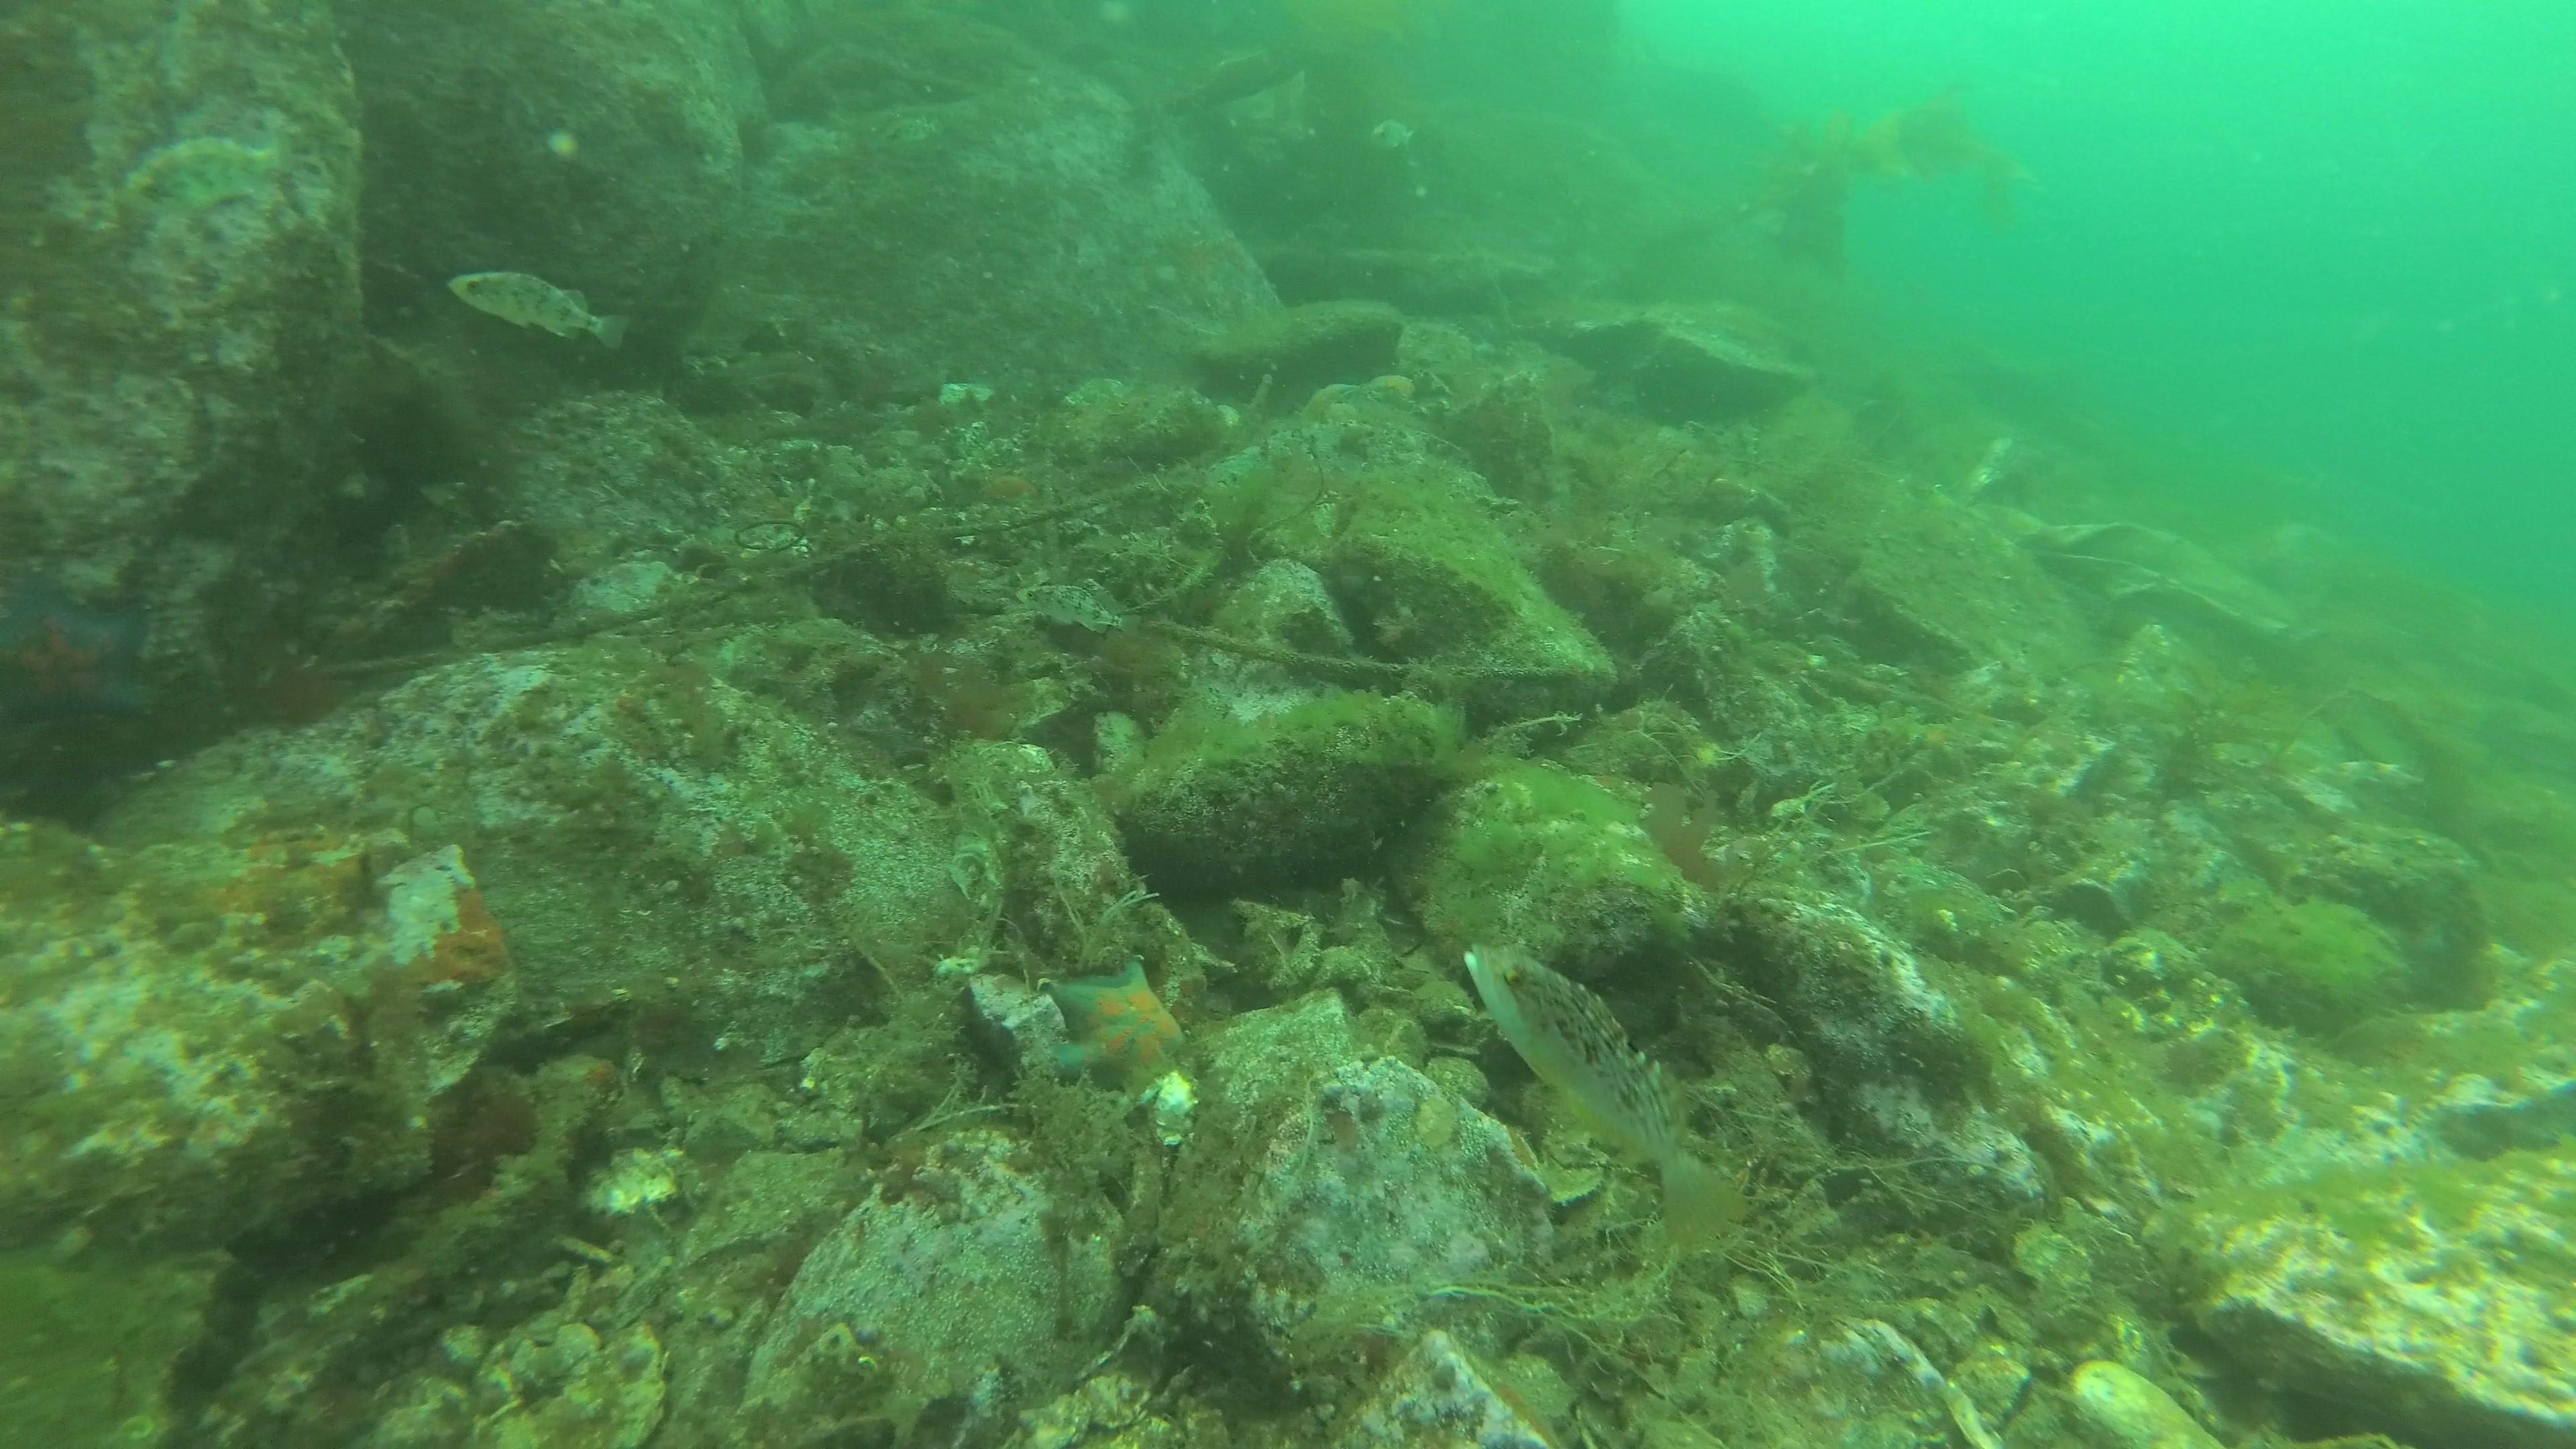starfish: (1040, 955, 1189, 1095)
